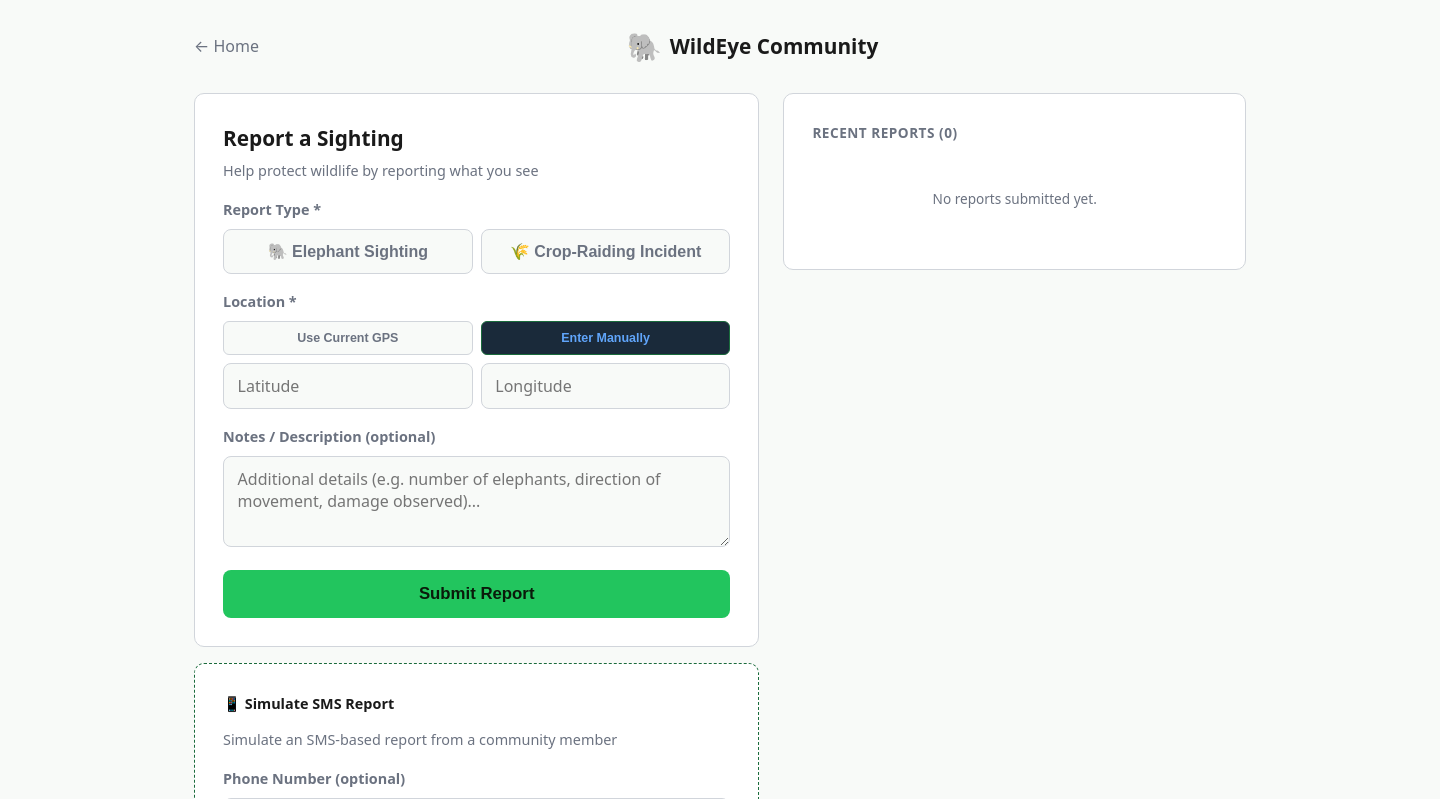
Scenario: CommunityReporting - validation › requires a location
Click the button "🐘 Elephant Sighting". click: click(348, 252)
box: [223,229,473,274]
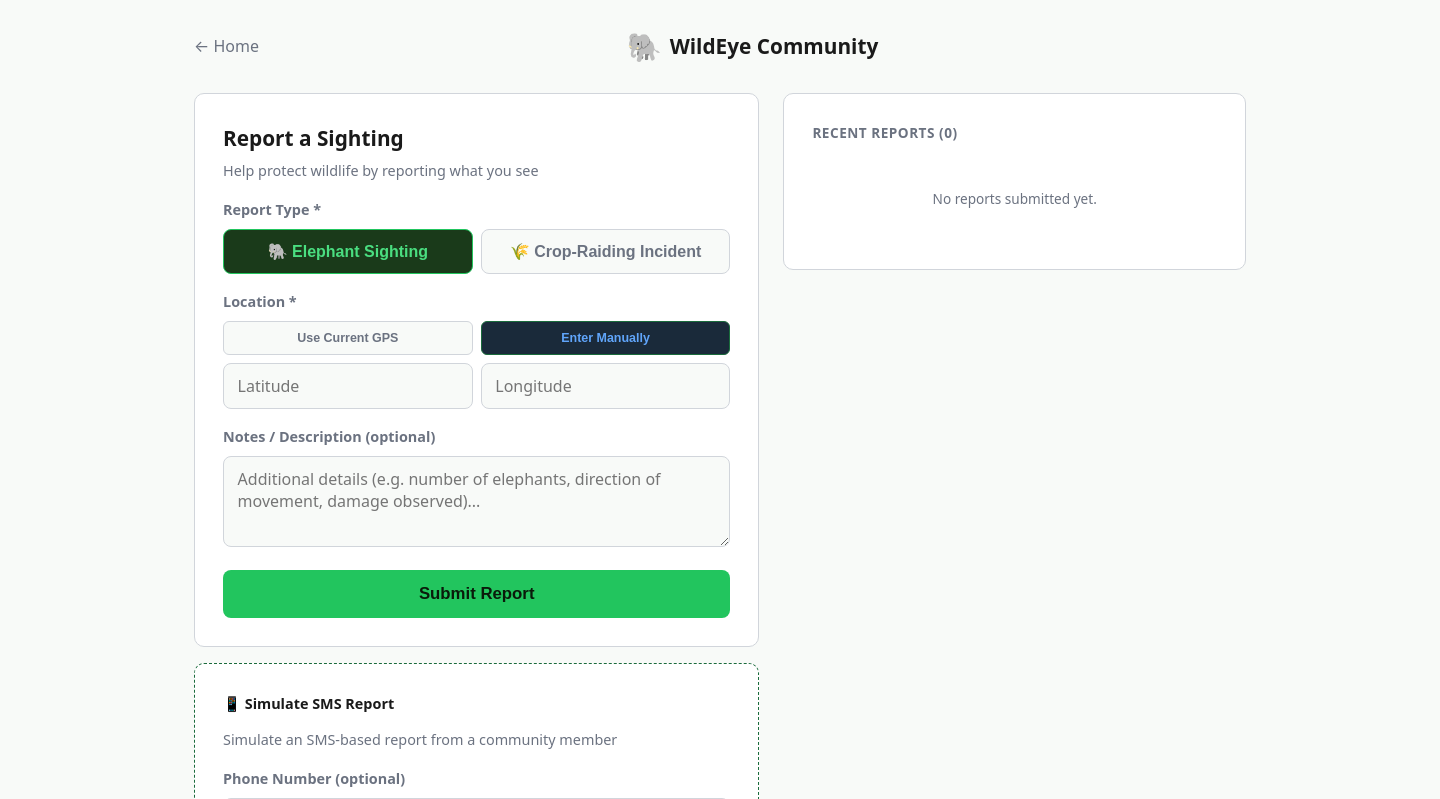
Click the button "Submit Report". click: click(477, 594)
box: [223,570,730,618]
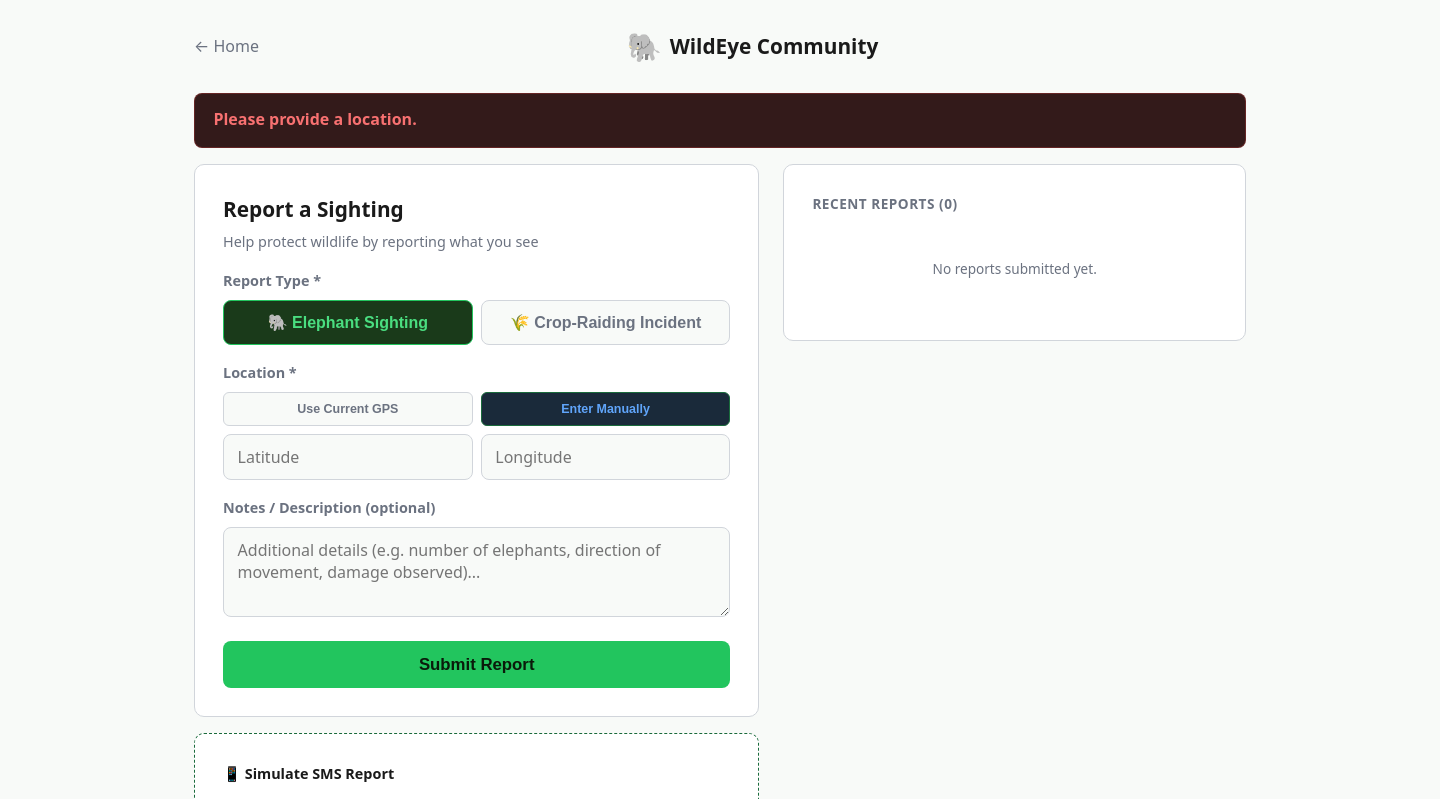
Check: the text "Please provide a location." is shown, box [194,93,1246,148]
